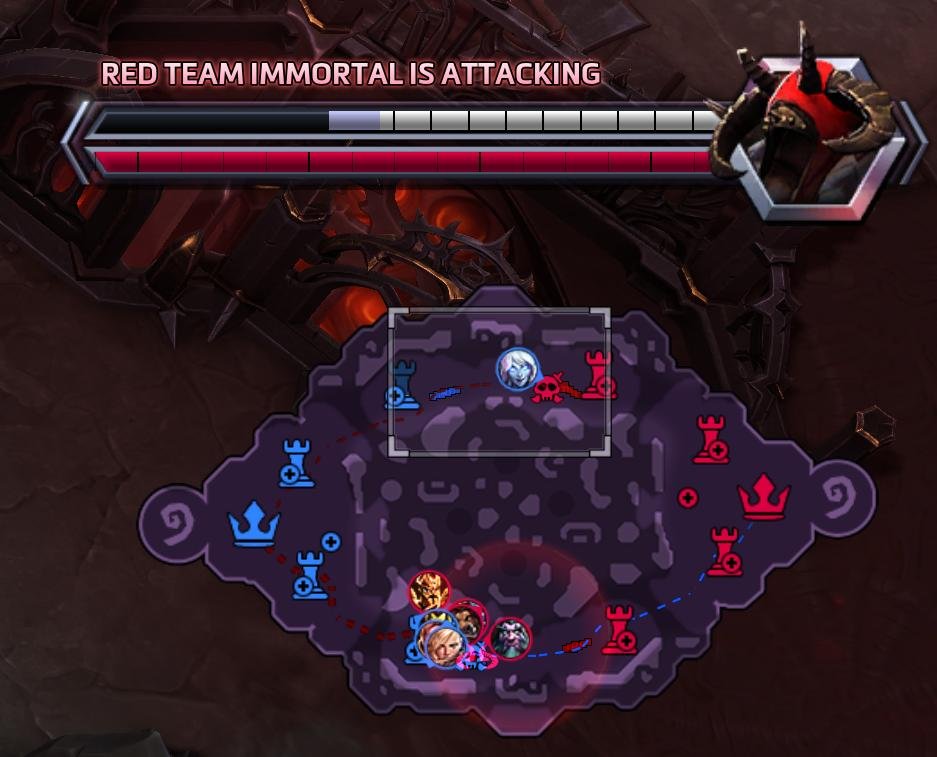blue nexus: (225, 497, 282, 547)
blue player: (495, 346, 540, 392), (411, 608, 452, 650)
blue tower: (288, 547, 335, 606), (271, 435, 319, 491), (383, 357, 421, 411)
red player: (421, 622, 468, 667), (488, 616, 532, 660), (446, 598, 488, 643), (408, 570, 451, 613)
red tower: (732, 469, 797, 521), (691, 411, 734, 470), (702, 521, 744, 581), (598, 603, 641, 656)
